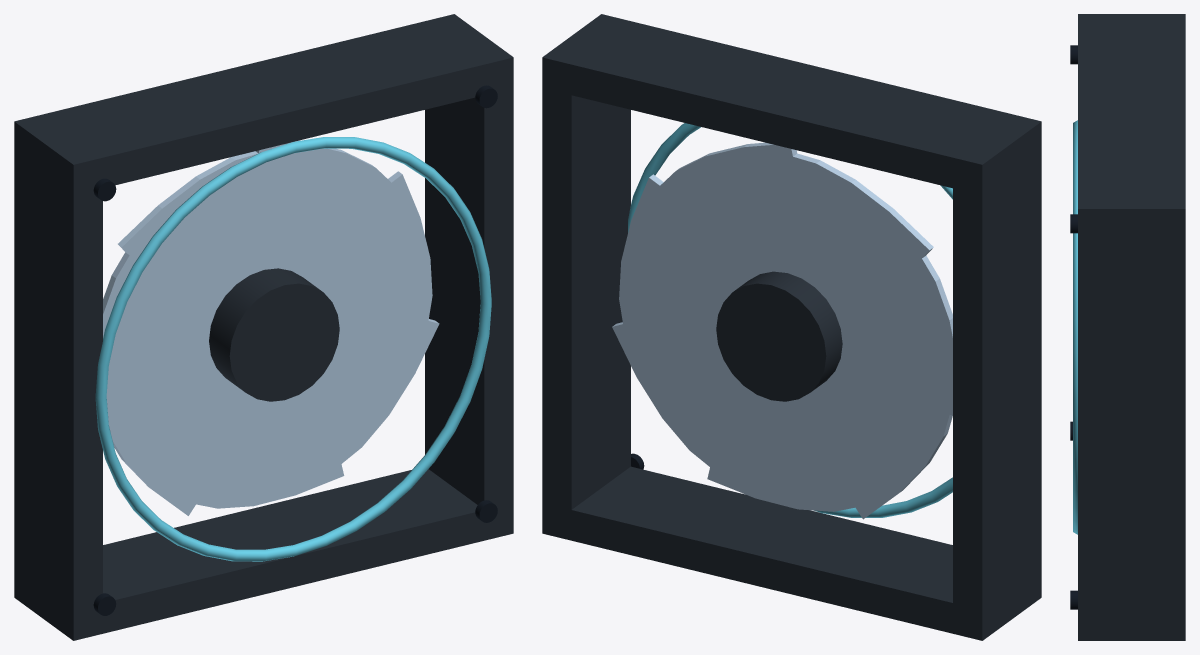
Rendered from retail-lian-li-uni-fan-tl-120-reverse-blade-wireless-black.glb.
3 views of the same model, side by side, from view 1: azimuth 30°, elevation 25°; view 2: azimuth 150°, elevation 25°; view 3: azimuth 270°, elevation 25° (orthographic). The views are drawn at different scales.
Visible parts, largest first — view 1: Frame edge (×4), Blade (×7), Intake rim, Motor hub; view 2: Frame edge (×4), Blade (×7), Motor hub, Intake rim; view 3: Frame edge (×3), Intake rim.
Boxes of the visible parts, <box> form: Frame edge (×4): <box>14,14,513,640</box>; Blade (×7): <box>103,140,439,515</box>; Intake rim: <box>95,137,491,561</box>; Motor hub: <box>209,268,339,401</box>; Frame edge (×4): <box>542,14,1041,640</box>; Blade (×7): <box>612,142,952,519</box>; Motor hub: <box>716,271,842,401</box>; Intake rim: <box>628,123,952,517</box>; Frame edge (×3): <box>1078,14,1185,640</box>; Intake rim: <box>1073,120,1077,534</box>.
Bounding box in the file's own units: 0.12 × 0.124 × 0.03.
